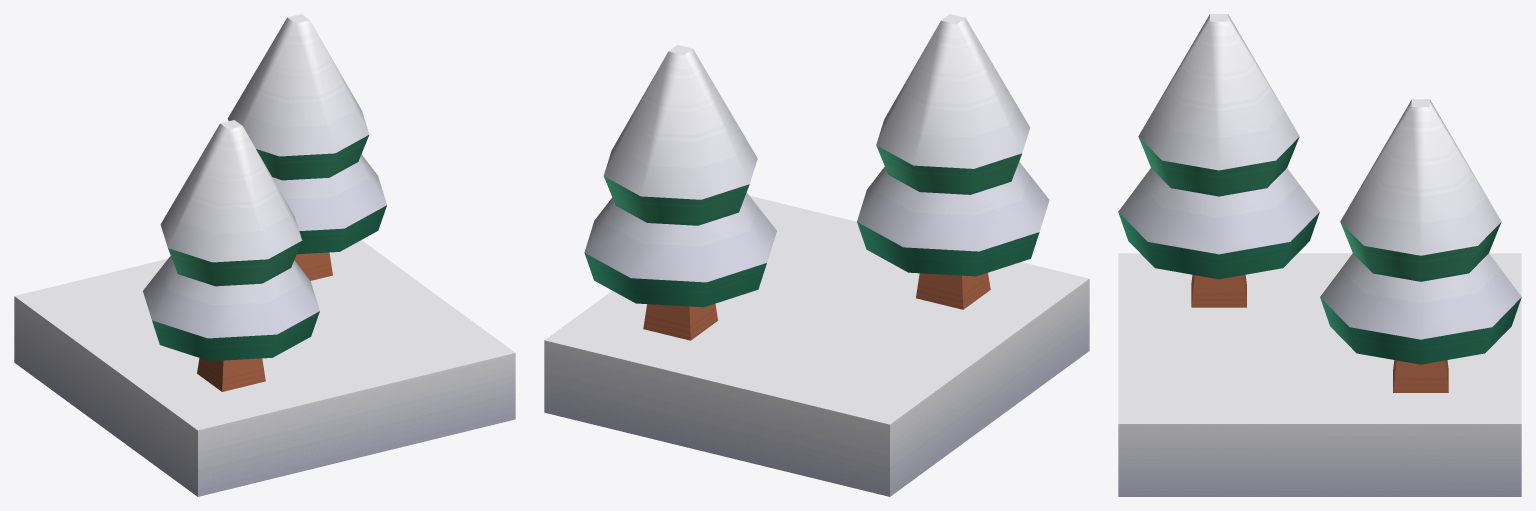
File: tower-defense-kit--snow-tile-tree-double.glb
3 renders of one model, left to right at view 1: azimuth 30°, elevation 25°; view 2: azimuth 150°, elevation 25°; view 3: azimuth 270°, elevation 25°, orthographic. The views are drawn at different scales.
Parts seen in each view (by area): view 1: snow-tile-tree-double; view 2: snow-tile-tree-double; view 3: snow-tile-tree-double.
Boxes of the visible parts, left/top/right/bottom form: snow-tile-tree-double: left=14, top=14, right=515, bottom=496; snow-tile-tree-double: left=544, top=14, right=1089, bottom=496; snow-tile-tree-double: left=1118, top=14, right=1521, bottom=496.
Size of the model in its own units: 1 by 0.96 by 1.
1 material, 1 textured.
